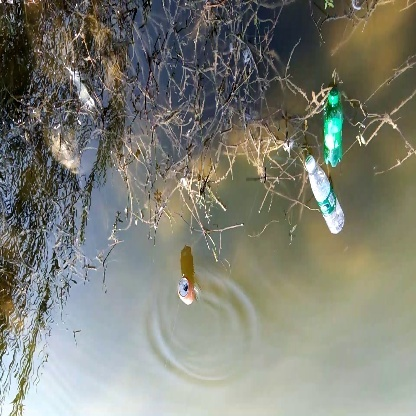bottle: (300, 149, 351, 235), (170, 272, 204, 308)
